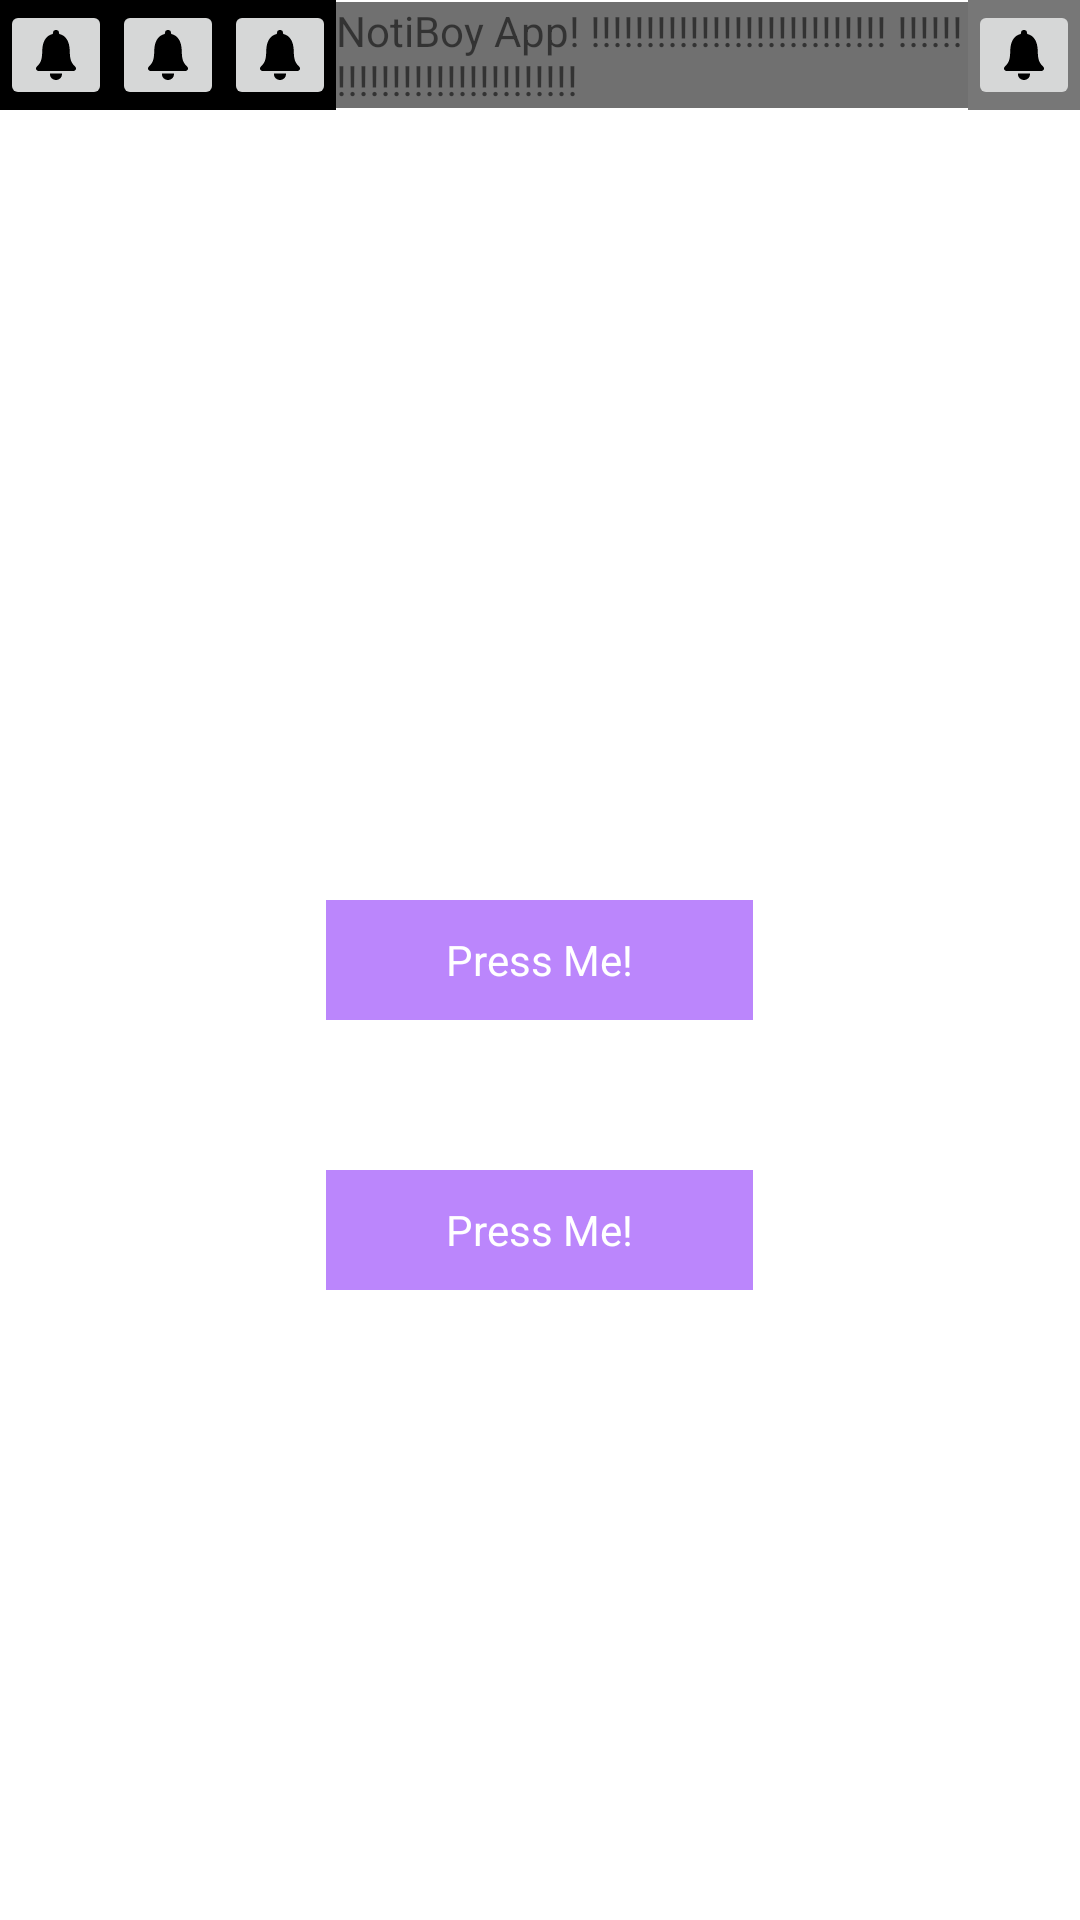

Where to tap for icons on this 1080*1920 app screen, as (x,y):
notifications: (56,55), (168,55), (280,55), (1024,55)
